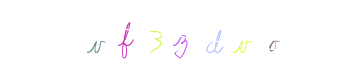3: (120, 0, 200, 80)
D: (156, 0, 236, 80)
F: (114, 0, 194, 80)
O: (162, 0, 242, 80)
V: (102, 0, 182, 80), (159, 0, 239, 80)
Z: (137, 0, 217, 80)
